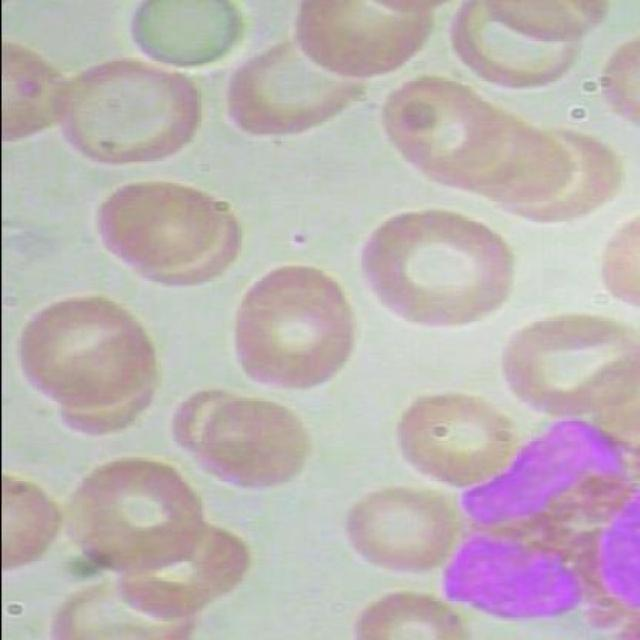RBC: (354, 200, 529, 338), (216, 31, 376, 143), (12, 286, 154, 409), (57, 459, 206, 576), (52, 56, 206, 169), (495, 307, 639, 421), (233, 278, 355, 392), (388, 379, 512, 490), (372, 70, 500, 175), (91, 180, 220, 275), (197, 397, 308, 497), (336, 485, 456, 572)
WBC: (431, 408, 638, 638)
